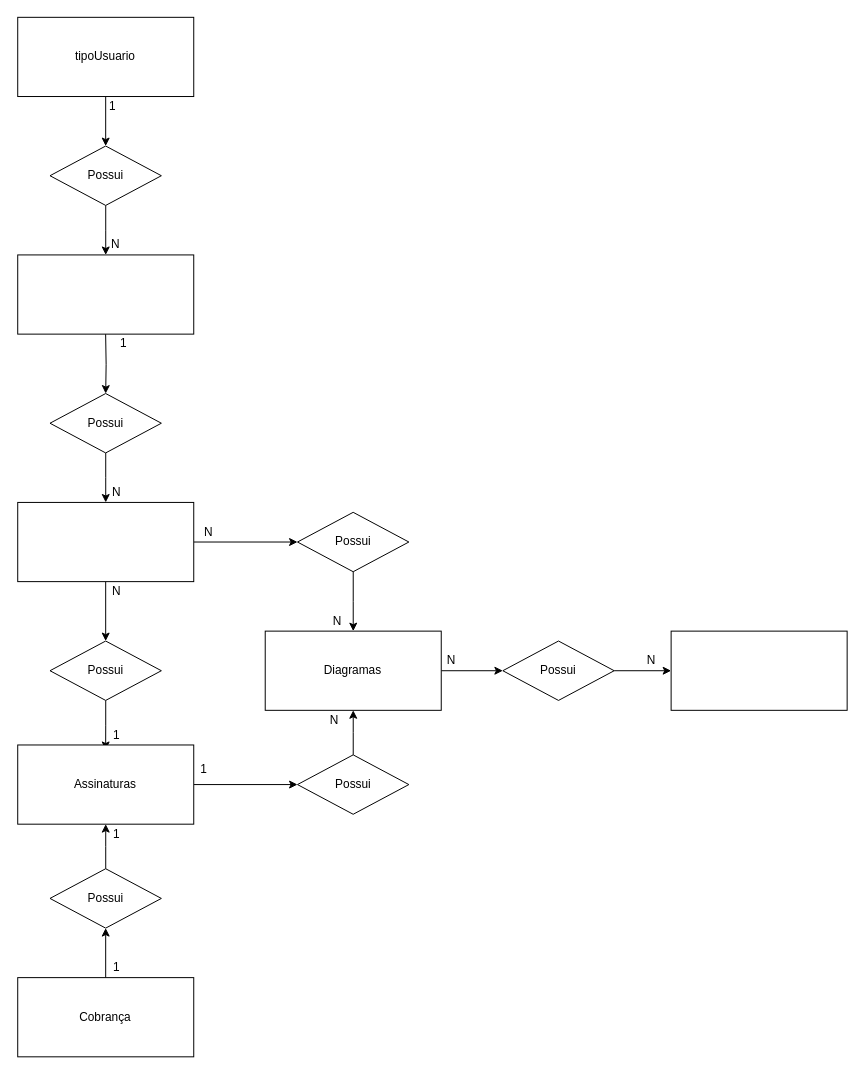
This 864x1074 diagram has some shape labels left out. The centre of each missing label's shape, as x and y in pixels:
"Custos" goes at (758,670).
"Usuario" goes at (105,294).
"Utilizador" goes at (105,541).
